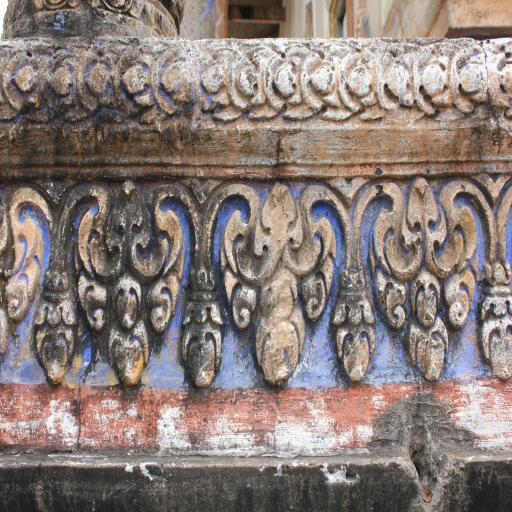la: (227, 180, 336, 393), (87, 187, 189, 402), (376, 179, 471, 377), (318, 177, 399, 386), (162, 180, 236, 386), (448, 169, 512, 385), (28, 188, 88, 380), (0, 190, 51, 370)
